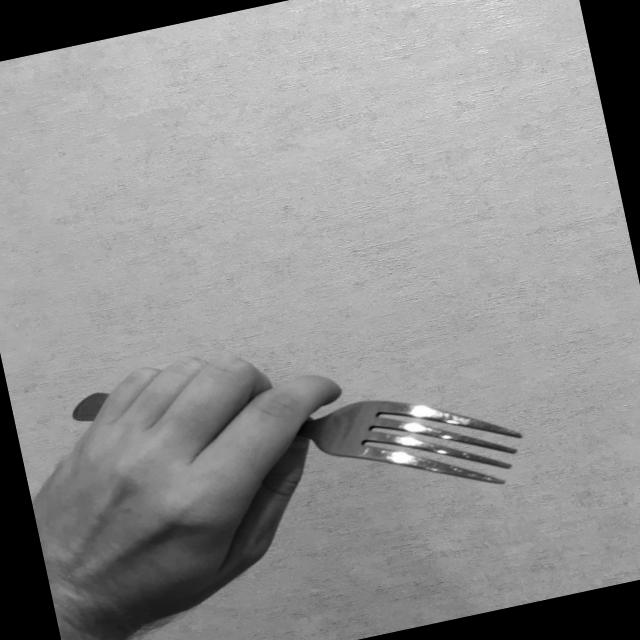fork: (67, 305, 533, 573)
